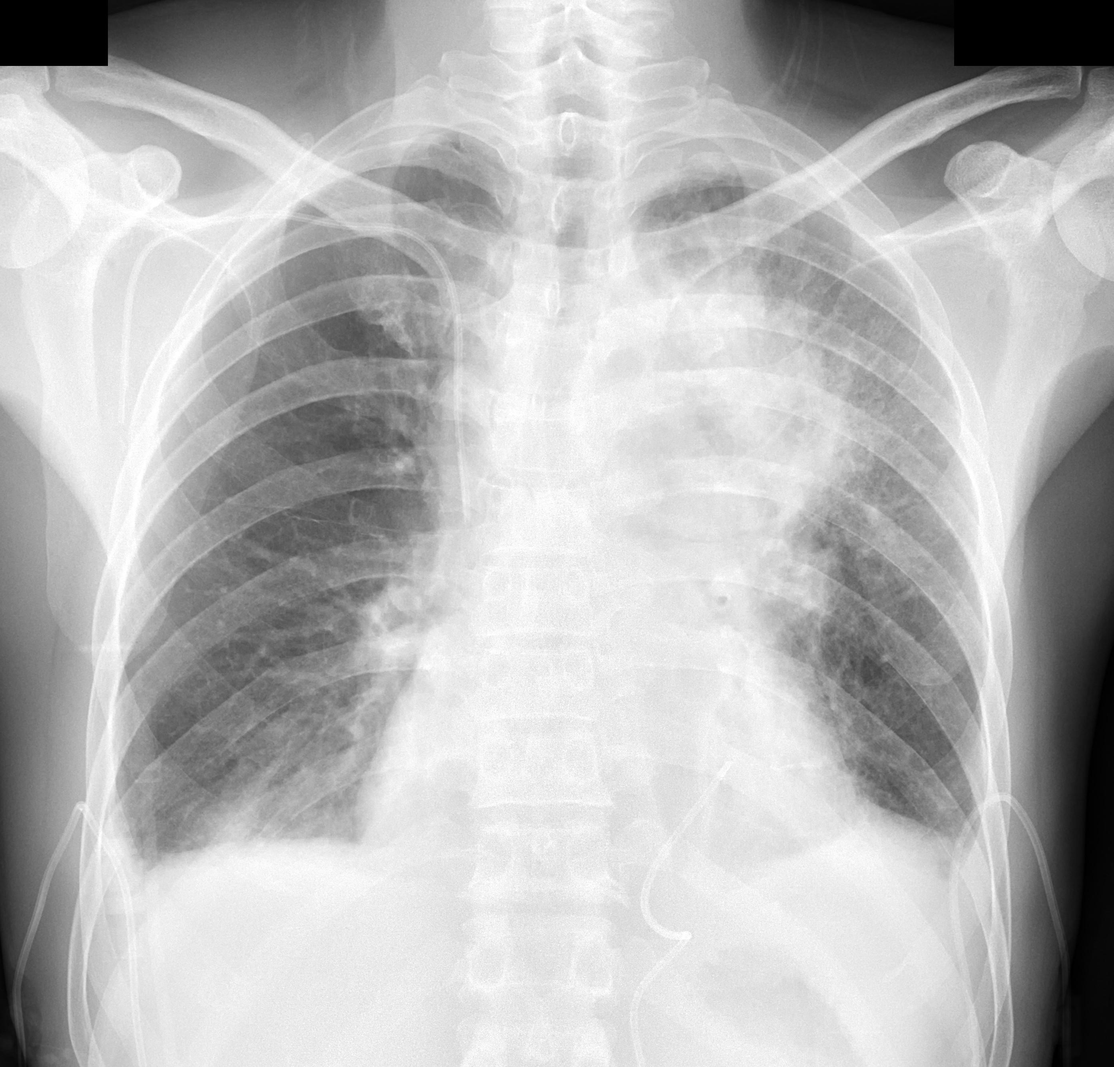Pleural thickening: (950, 808, 992, 884)
